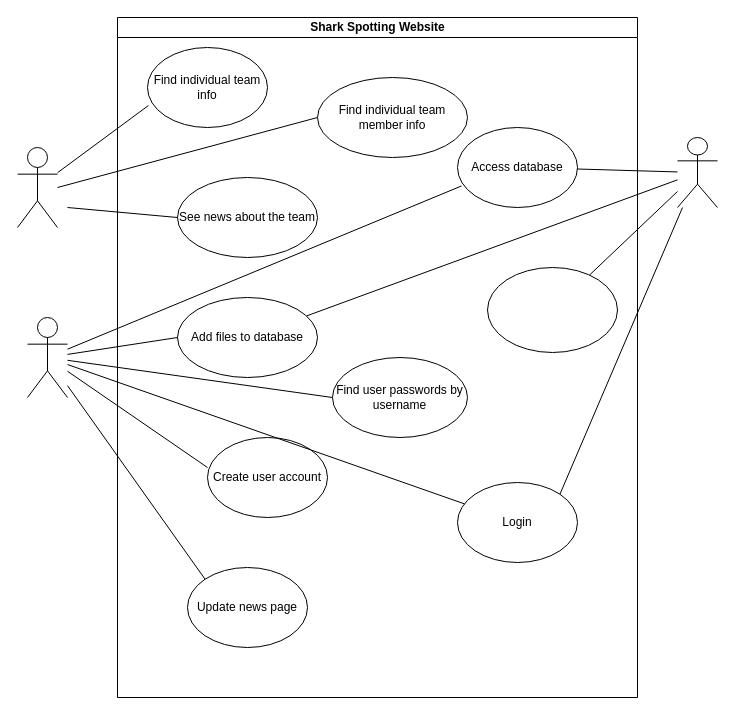
This 753x715 diagram has some shape labels left out. Each missing label, with the centre of its shape:
"Admin" goes at point 47,357.
"Edit personal bio" goes at point 552,309.
"Team member" goes at point 697,172.
"Visitor" goes at point 37,187.
